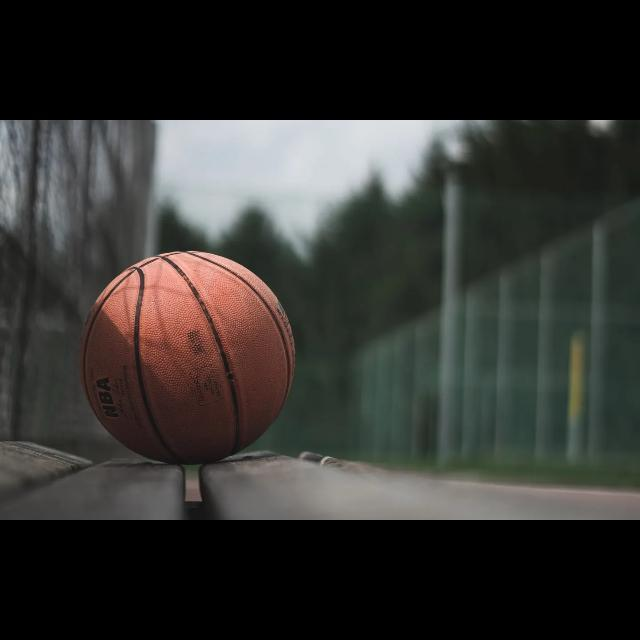basketball: (80, 252, 292, 463)
